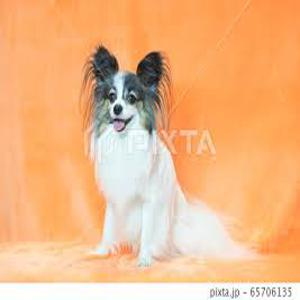yell: (81, 44, 263, 268)
